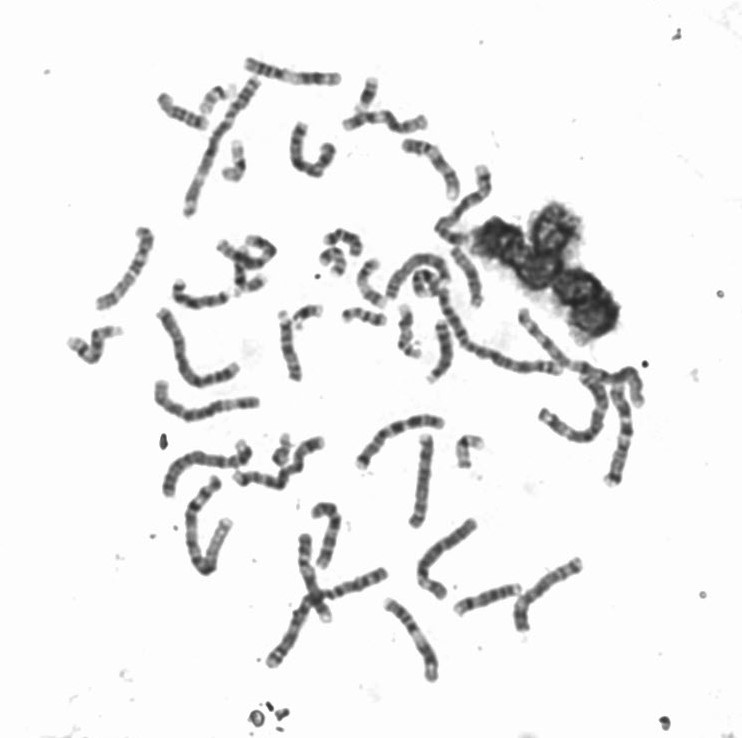chromosomes: (261, 564, 392, 674), (517, 308, 653, 408), (179, 74, 267, 226), (438, 290, 566, 380), (154, 309, 243, 391), (508, 555, 591, 640), (408, 512, 484, 603), (352, 409, 449, 475), (531, 372, 610, 453), (431, 159, 499, 249), (91, 221, 156, 315), (182, 474, 235, 582), (234, 433, 333, 490), (150, 374, 265, 423), (382, 598, 443, 690), (159, 440, 254, 496), (290, 531, 336, 627), (398, 138, 463, 204), (376, 251, 452, 302), (283, 116, 338, 184), (401, 430, 436, 536), (247, 54, 344, 91), (609, 374, 635, 497), (207, 231, 282, 273), (452, 576, 525, 619), (309, 498, 348, 574), (271, 304, 307, 386), (449, 247, 491, 314), (65, 323, 127, 367), (341, 108, 440, 134), (157, 93, 213, 135), (172, 275, 232, 312), (424, 318, 453, 392), (230, 243, 267, 300), (358, 253, 391, 312), (396, 300, 424, 365), (197, 81, 238, 121), (325, 225, 372, 259), (455, 433, 492, 475), (352, 72, 385, 118), (318, 244, 354, 286), (218, 139, 249, 187), (289, 303, 327, 338), (339, 307, 393, 331), (270, 433, 297, 471), (410, 267, 439, 300)
